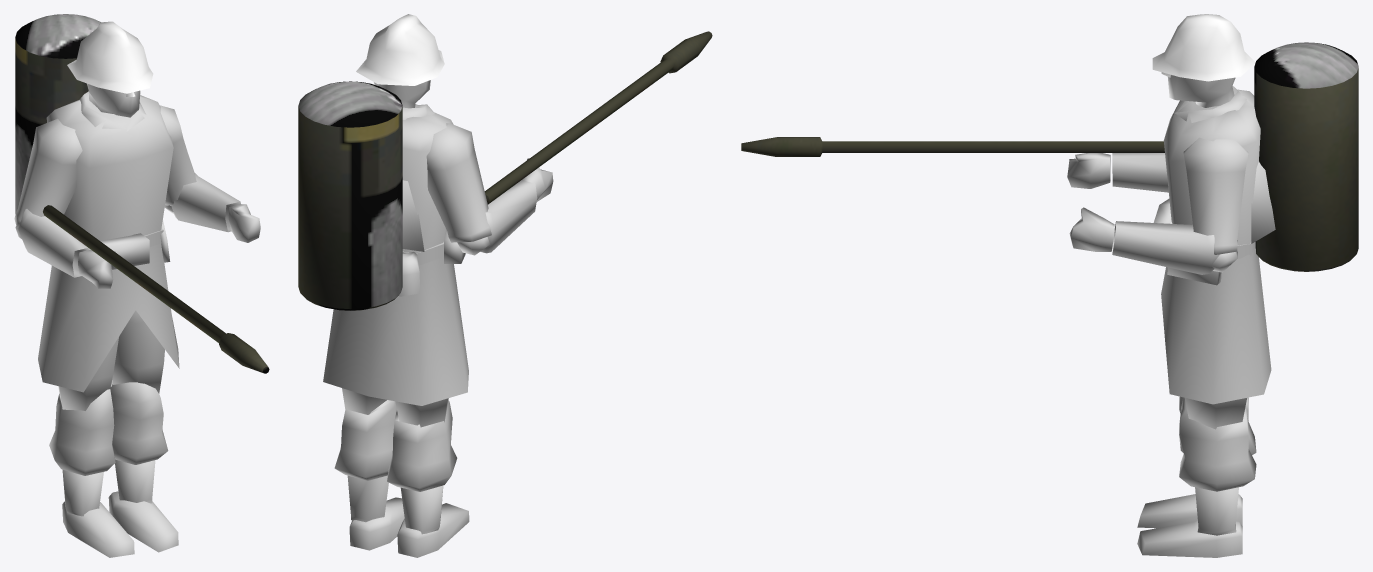
Rendered from frinfft.dae.
3 views of the same model, side by side, from view 1: azimuth 30°, elevation 25°; view 2: azimuth 150°, elevation 25°; view 3: azimuth 270°, elevation 25° (orthographic). The views are drawn at different scales.
Parts seen in each view (by area): view 1: torso, fttank, rloleg, lloleg, head, ruparm, gun, lupleg, rloarm, lfoot, lloarm, rfoot (+4 smaller); view 2: fttank, torso, rloleg, ruparm, lloleg, head, gun, rloarm, rfoot, lfoot, rupleg, lupleg (+1 smaller); view 3: torso, fttank, lloleg, head, luparm, gun, lloarm, lfoot, rloarm, rfoot, lhand, rhand (+1 smaller).
Part boxes in pixels (left/top/right/bottom): torso: left=38, top=91, right=179, bottom=392; fttank: left=15, top=14, right=100, bottom=213; rloleg: left=49, top=389, right=115, bottom=516; lloleg: left=110, top=382, right=168, bottom=503; head: left=67, top=21, right=153, bottom=117; ruparm: left=14, top=118, right=82, bottom=227; gun: left=43, top=205, right=269, bottom=373; lupleg: left=112, top=310, right=164, bottom=393; rloarm: left=18, top=209, right=89, bottom=277; lfoot: left=108, top=491, right=178, bottom=552; lloarm: left=171, top=172, right=240, bottom=232; rfoot: left=62, top=501, right=134, bottom=557; fttank: left=298, top=81, right=402, bottom=310; torso: left=323, top=104, right=468, bottom=405; rloleg: left=387, top=401, right=457, bottom=534; ruparm: left=426, top=123, right=491, bottom=242; lloleg: left=334, top=400, right=396, bottom=522; head: left=356, top=14, right=444, bottom=108; gun: left=484, top=31, right=712, bottom=204; rloarm: left=480, top=180, right=537, bottom=253; rfoot: left=397, top=503, right=469, bottom=557; lfoot: left=349, top=497, right=404, bottom=550; rupleg: left=395, top=398, right=448, bottom=427; lupleg: left=342, top=388, right=386, bottom=414; torso: left=1153, top=85, right=1275, bottom=404; fttank: left=1254, top=42, right=1358, bottom=271; lloleg: left=1179, top=397, right=1256, bottom=535; head: left=1152, top=14, right=1255, bottom=107; luparm: left=1183, top=137, right=1248, bottom=254; gun: left=741, top=137, right=1164, bottom=156; lloarm: left=1112, top=221, right=1219, bottom=274; lfoot: left=1137, top=521, right=1242, bottom=557; rloarm: left=1112, top=153, right=1168, bottom=192; rfoot: left=1137, top=494, right=1242, bottom=528; lhand: left=1069, top=207, right=1114, bottom=251; rhand: left=1067, top=153, right=1110, bottom=188.
Size of the model in its own units: 8.66 by 24.39 by 22.73.
